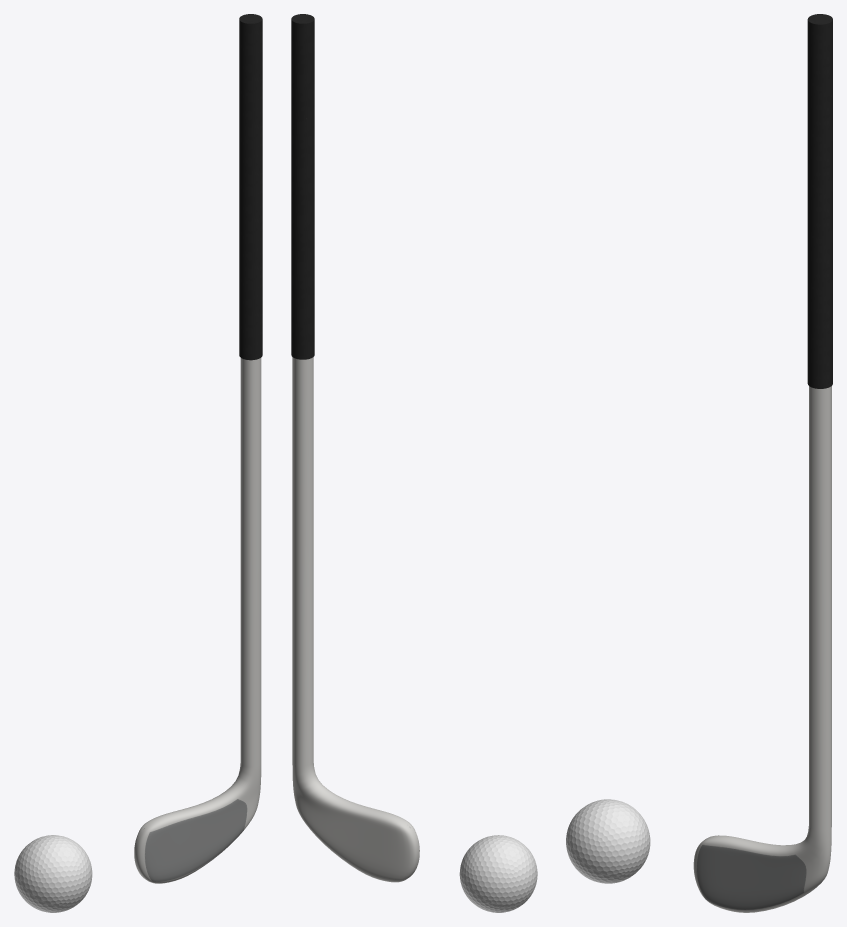
The model's file is golf_club_and_ball_fbx.fbx.
3 renders of one model, left to right at view 1: azimuth 30°, elevation 25°; view 2: azimuth 150°, elevation 25°; view 3: azimuth 330°, elevation 25°, orthographic. The views are drawn at different scales.
Parts seen in each view (by area): view 1: golf_club.002, Icosphere; view 2: golf_club.002, Icosphere; view 3: golf_club.002, Icosphere.
Boxes of the visible parts, <box> form: golf_club.002: <box>134,14,262,883</box>; Icosphere: <box>14,835,92,912</box>; golf_club.002: <box>291,14,419,882</box>; Icosphere: <box>459,835,537,912</box>; golf_club.002: <box>693,14,832,912</box>; Icosphere: <box>566,799,650,883</box>.
Bounding box in the file's own units: 210 × 702 × 58.65.
